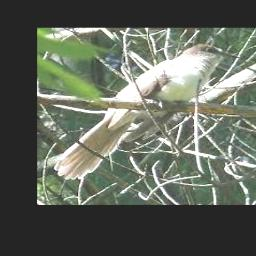Cuckoo: (54, 44, 241, 179)
